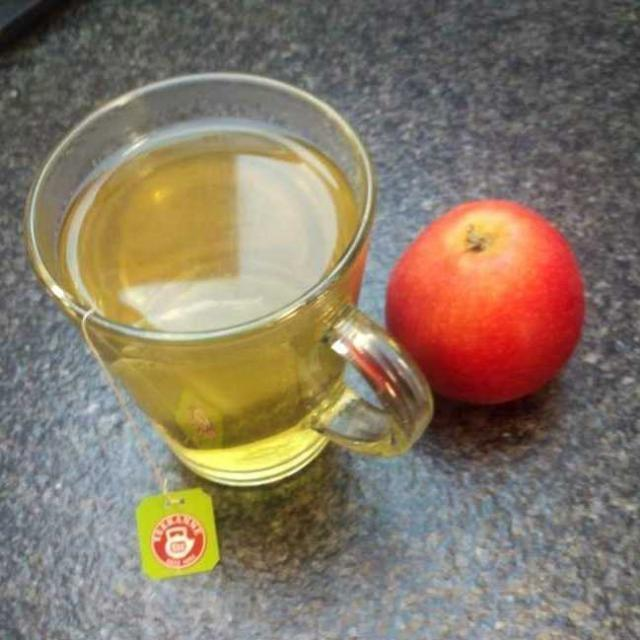apple: (385, 194, 609, 419)
tea: (50, 110, 383, 512)
